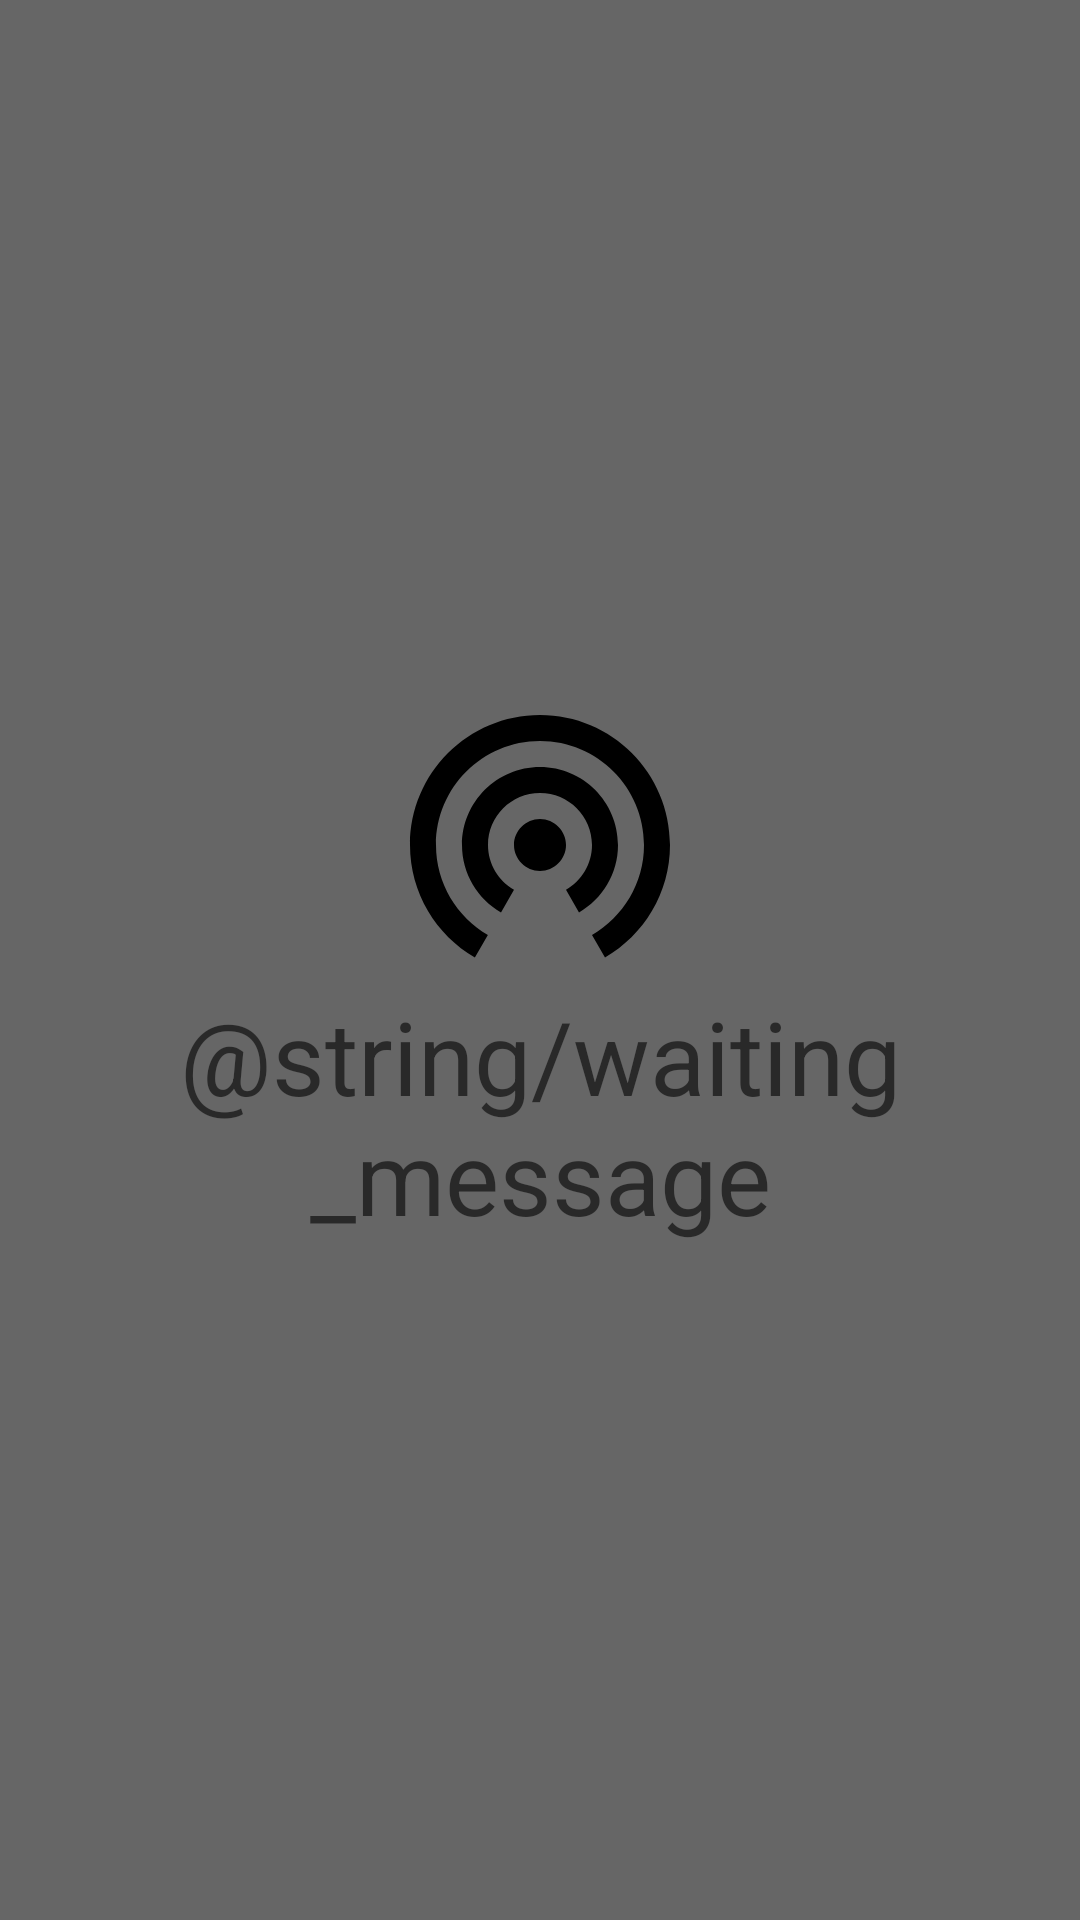

Named icons in this screenshot (1080px×1920px) and their centers, (x,y):
wifi tethering: (540,836)
